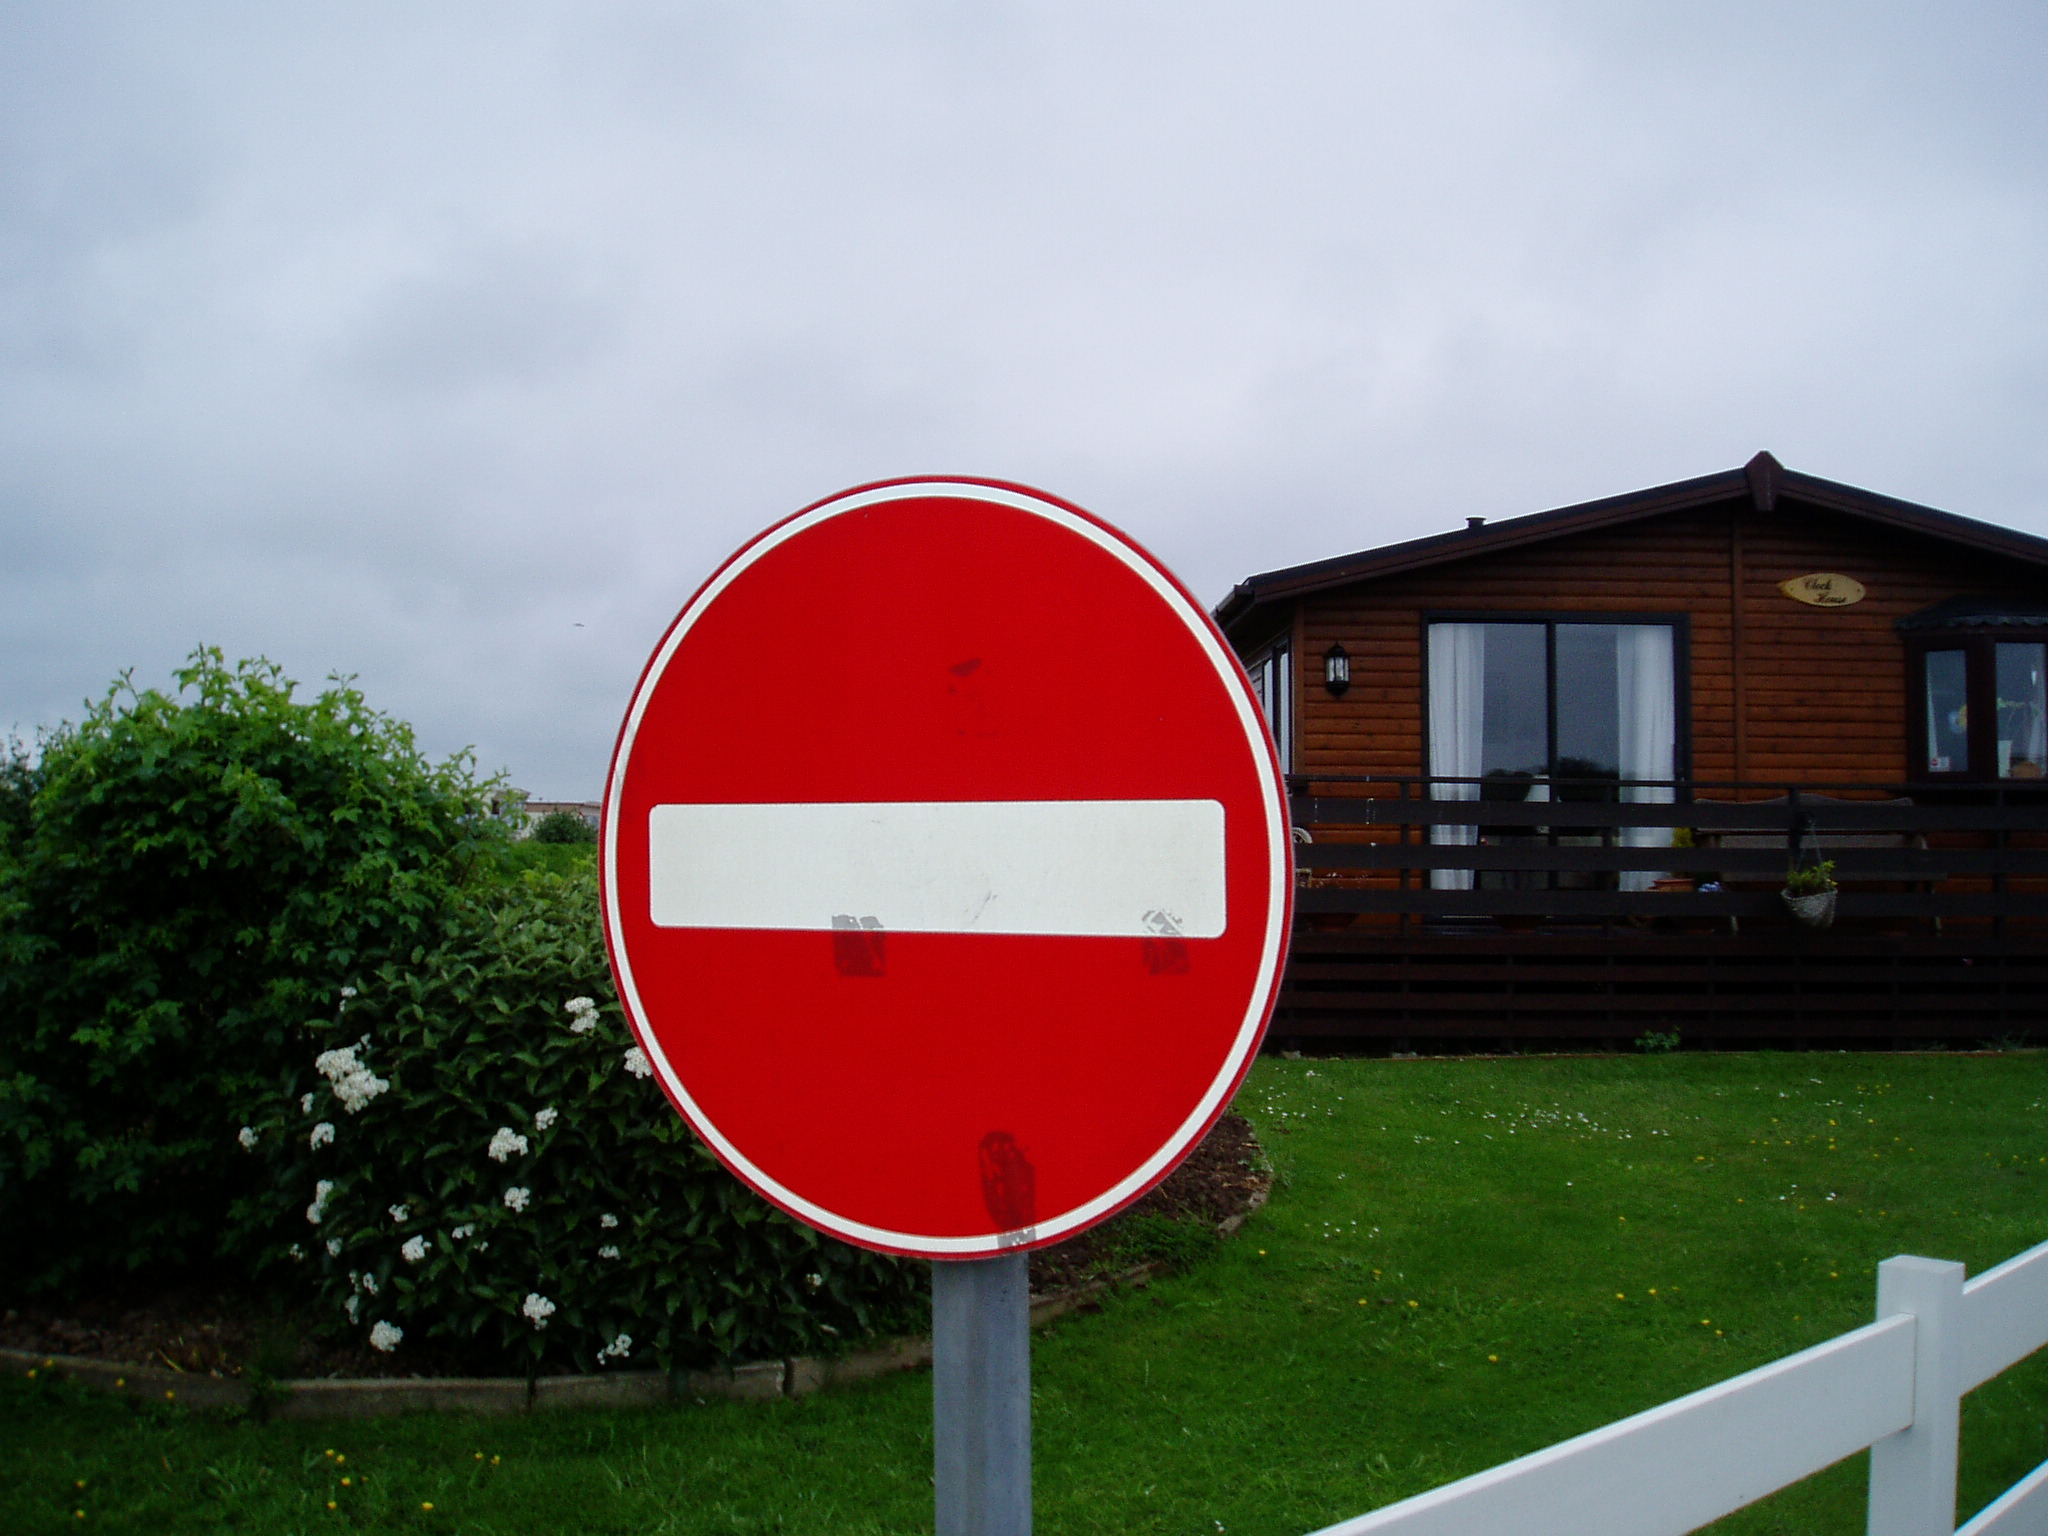No_entry: (593, 473, 1300, 1262)
